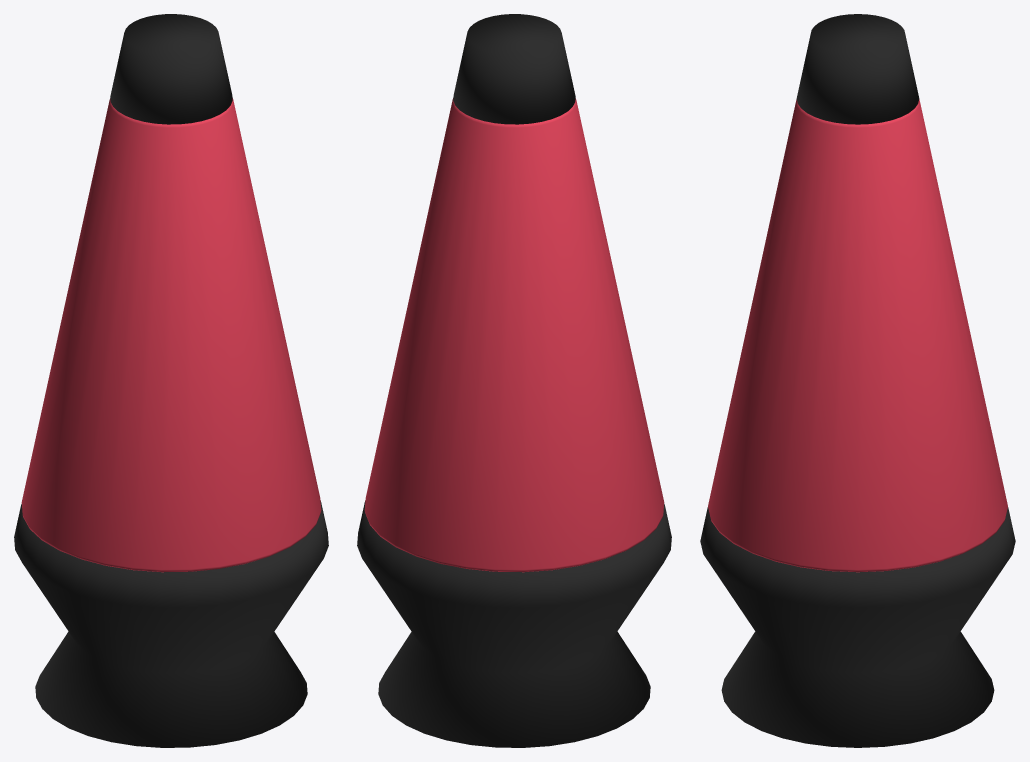
File: lava_lamp_2.fbx
3 renders of one model, left to right at view 1: azimuth 30°, elevation 25°; view 2: azimuth 150°, elevation 25°; view 3: azimuth 270°, elevation 25°, orthographic.
Visible parts, largest first — view 1: glass, main_lamp; view 2: glass, main_lamp; view 3: glass, main_lamp.
Part boxes in pixels (x1,y1,x2,y2): glass: (21,98,321,572); main_lamp: (14,14,328,747); glass: (364,98,664,572); main_lamp: (357,14,671,747); glass: (708,99,1007,572); main_lamp: (700,14,1015,747).
Bounding box in the file's own units: 212 × 486 × 212.
